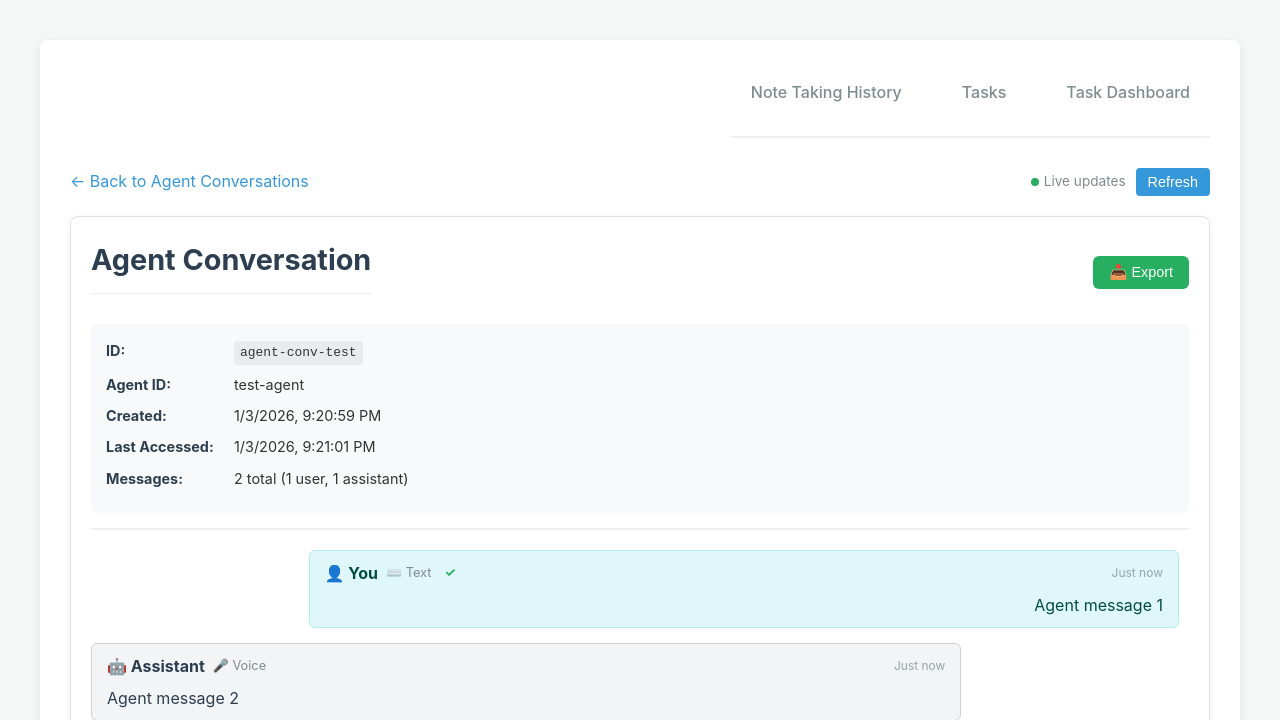
Test: AgentConversationDetailView › Manual refresh › shows error message when refresh fails
This screenshot has width=1280, height=720.
Click the button "Refresh": click(1173, 182) top-left (1136, 168), bottom-right (1210, 196)
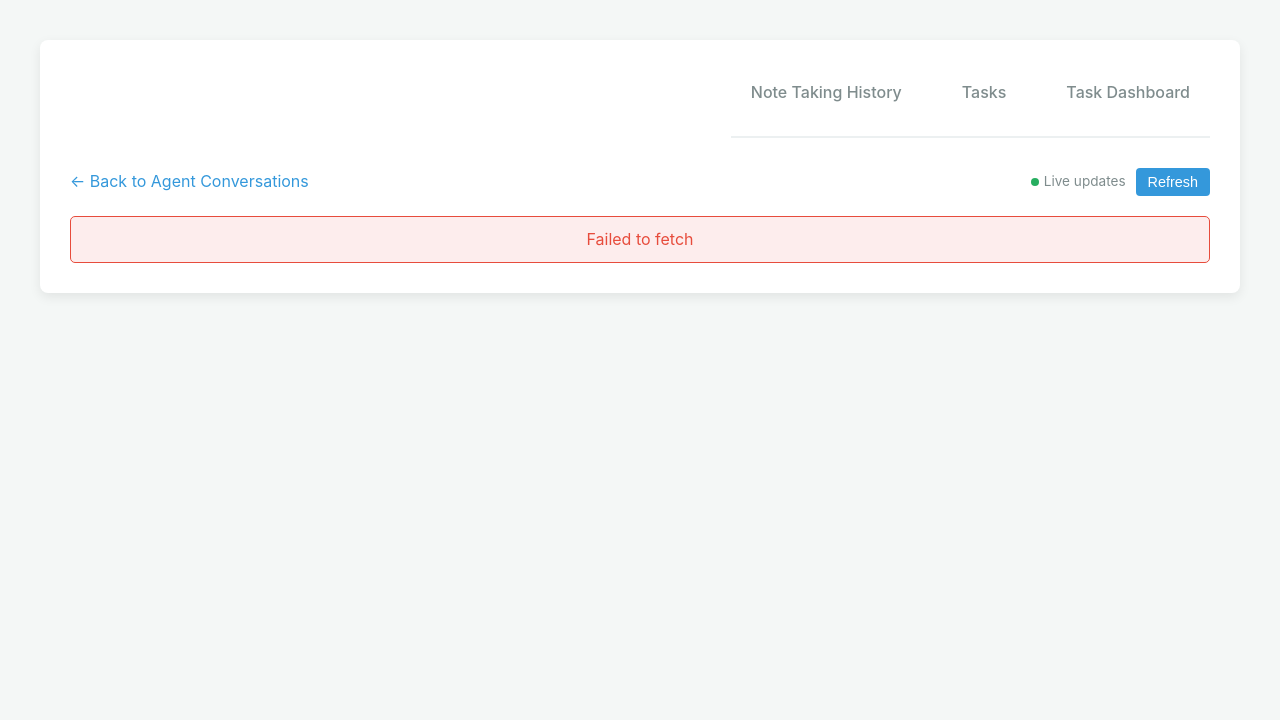
Now the text "Failed to fetch" is shown, box top-left (70, 216), bottom-right (1210, 263)
